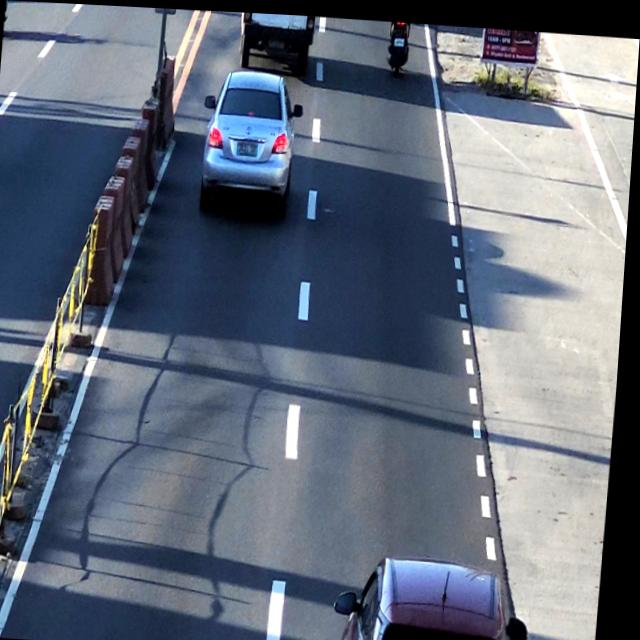Car: (344, 546, 525, 640), (198, 68, 302, 202), (235, 10, 318, 62)
License-Plate: (235, 138, 260, 156), (393, 33, 406, 44)
Motorcycle: (384, 17, 412, 71)
